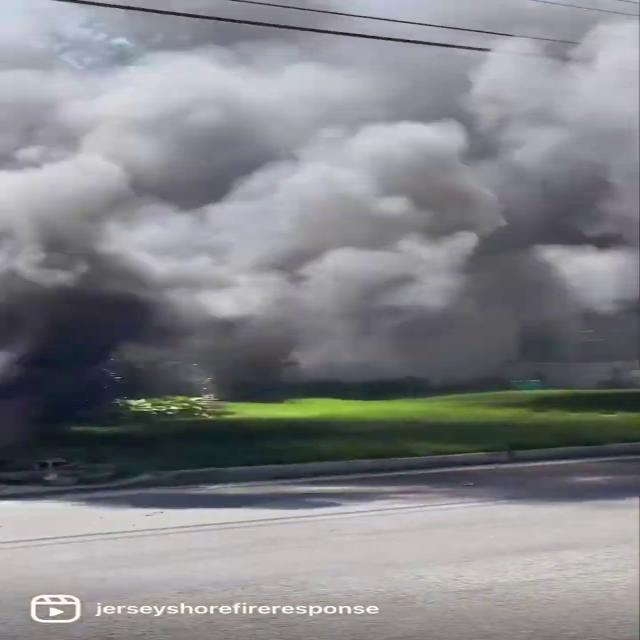Smoke: (1, 0, 638, 388)
